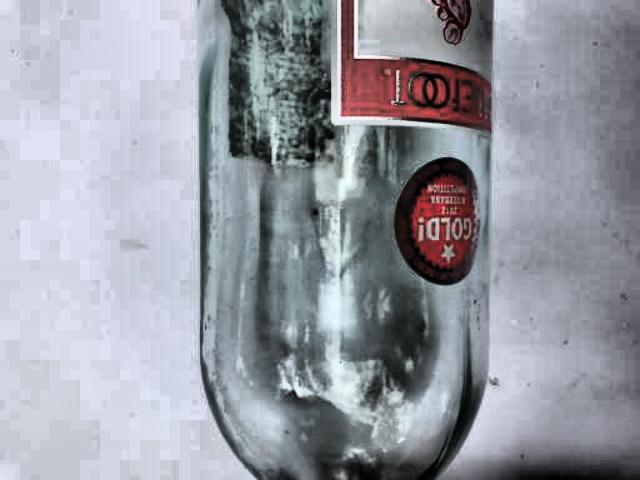Bottles: (178, 0, 526, 480)
